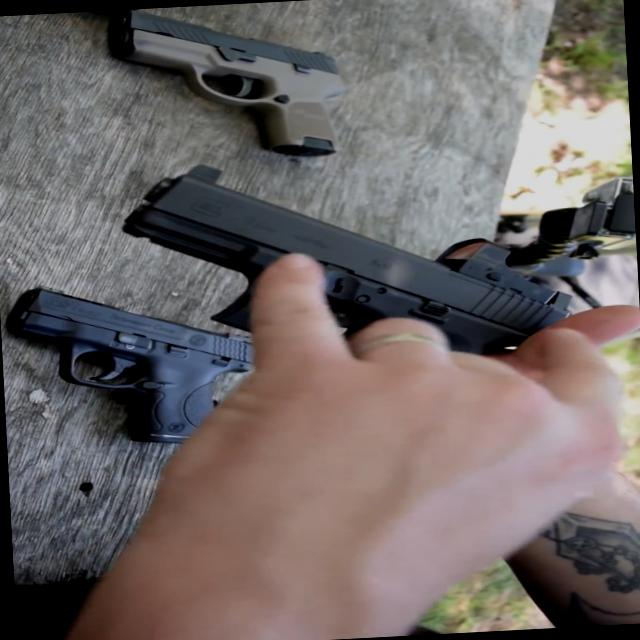handgun: (104, 147, 576, 416), (122, 0, 372, 180), (12, 270, 252, 455)
